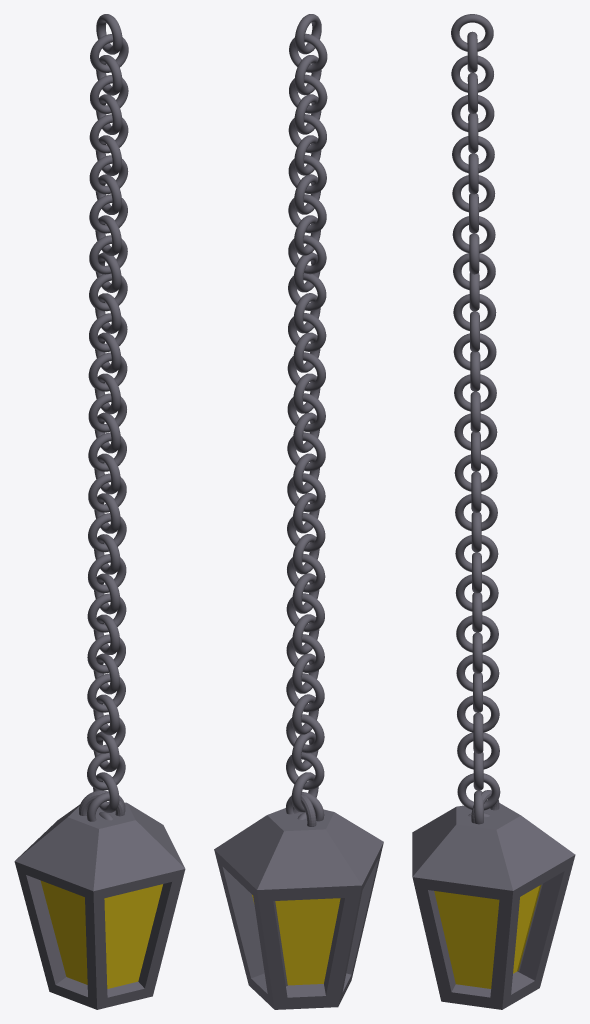
File: KGCabinLight.glb
The picture shows the model from 3 angles, left to right: view 1: azimuth 30°, elevation 25°; view 2: azimuth 150°, elevation 25°; view 3: azimuth 270°, elevation 25°; orthographic projection.
Parts seen in each view (by area): view 1: Light.001; view 2: Light.001; view 3: Light.001.
Part boxes in pixels (box(x1,y1,x2,y2)): Light.001: box(14, 14, 185, 1009); Light.001: box(214, 14, 383, 1009); Light.001: box(412, 14, 575, 1009).
Bounding box in the file's own units: 0.7525 × 4.72 × 0.7157.
